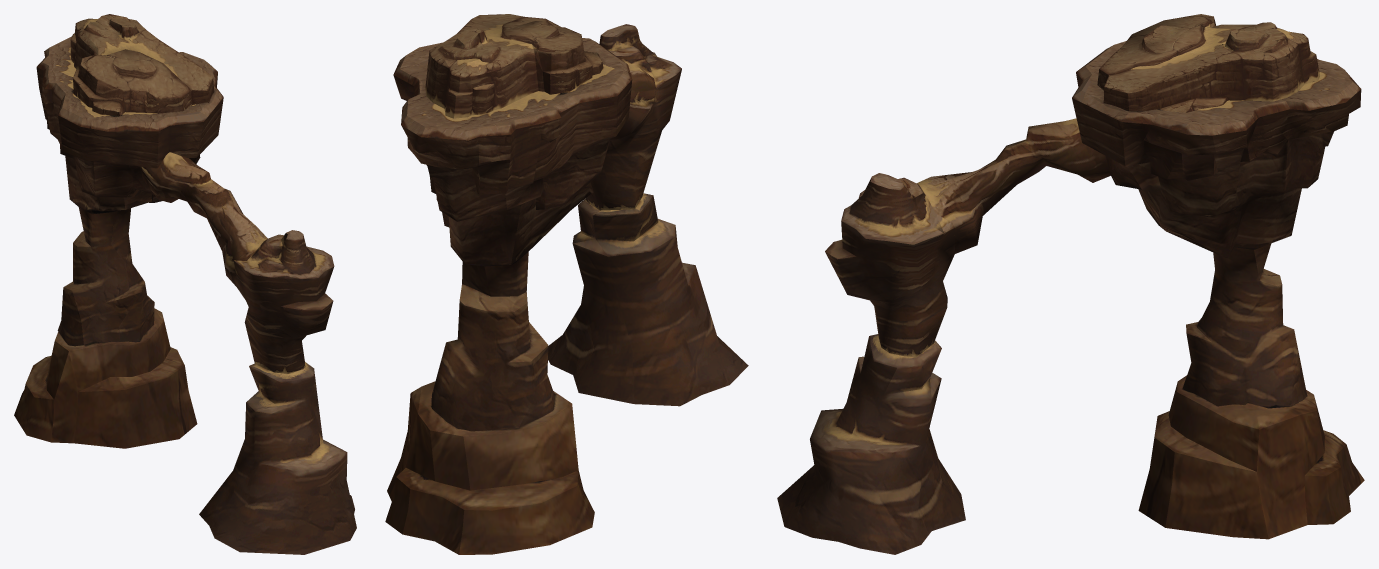
Rendered from nashgar_natural_rock_pillar01_01.FBX.
The picture shows the model from 3 angles, left to right: view 1: azimuth 30°, elevation 25°; view 2: azimuth 150°, elevation 25°; view 3: azimuth 270°, elevation 25°; orthographic projection. The views are drawn at different scales.
Visible parts, largest first — view 1: nashgar_natural_rock_pillar01_01; view 2: nashgar_natural_rock_pillar01_01; view 3: nashgar_natural_rock_pillar01_01.
Part boxes in pixels (left/top/right/bottom): nashgar_natural_rock_pillar01_01: left=14, top=14, right=356, bottom=554; nashgar_natural_rock_pillar01_01: left=385, top=14, right=748, bottom=554; nashgar_natural_rock_pillar01_01: left=777, top=14, right=1364, bottom=554.
Bounding box in the file's own units: 13.03 × 26.45 × 29.8.
